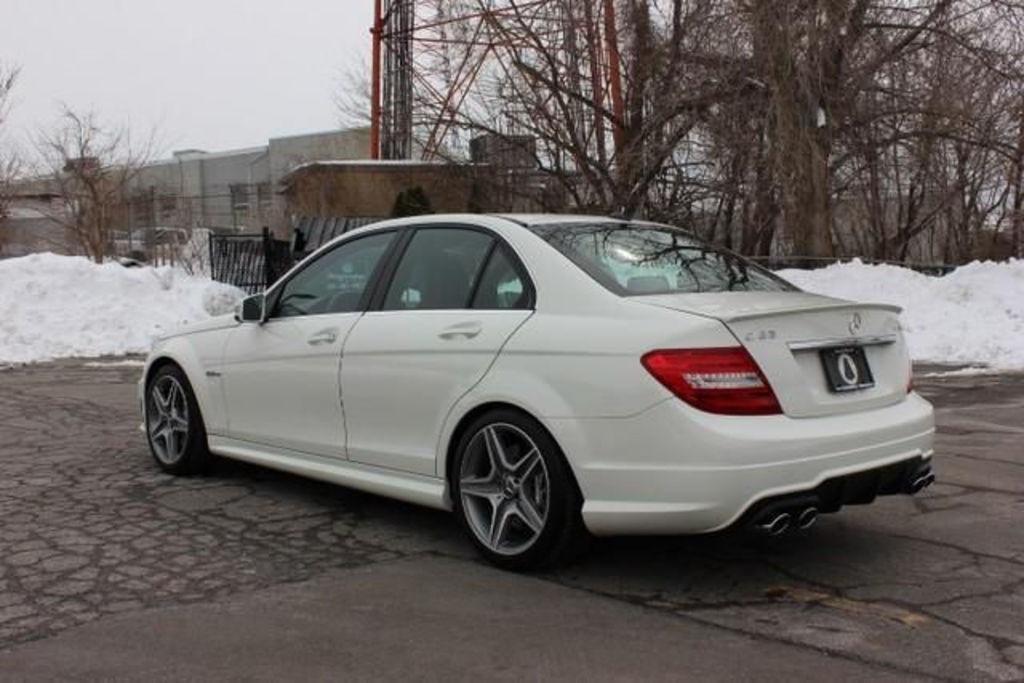Tree: (335, 0, 1024, 273), (10, 99, 177, 271)
